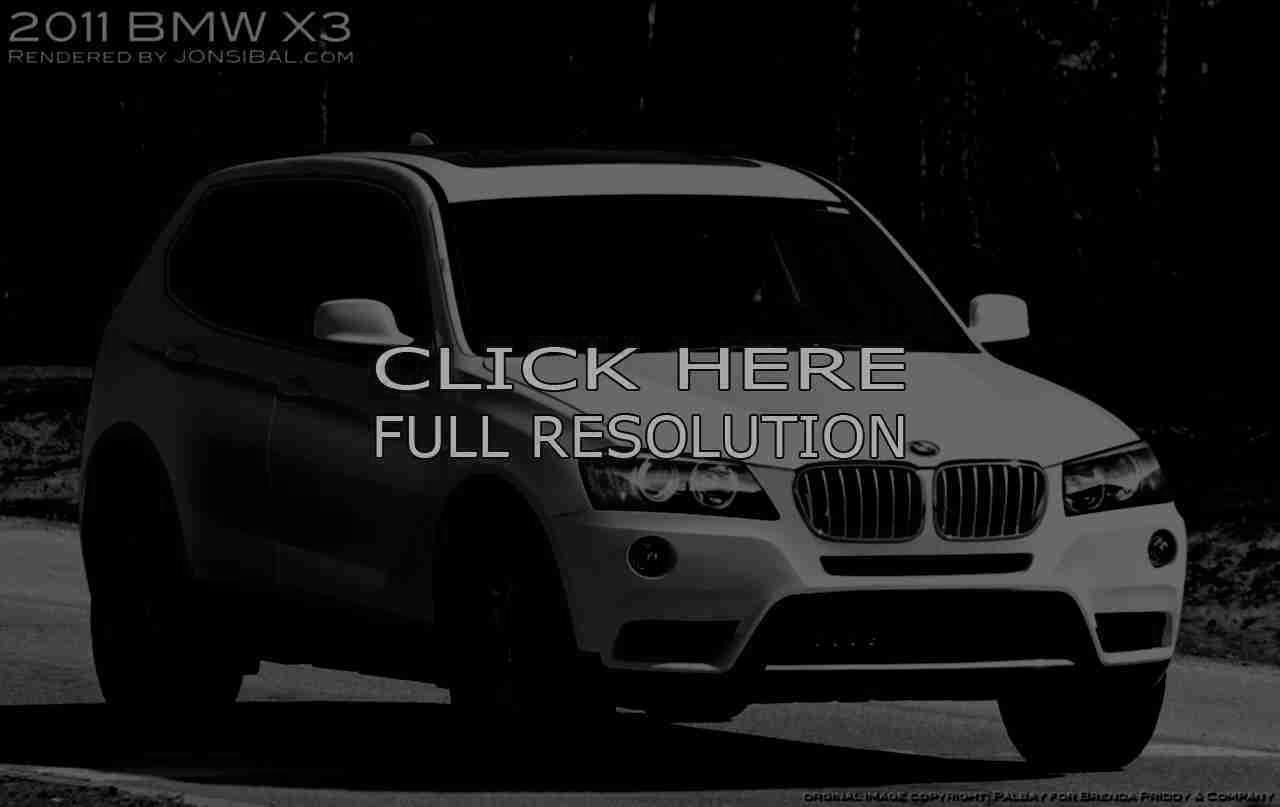car: (78, 134, 1189, 772)
